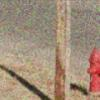a fire hydrant: (85, 48, 100, 92)
